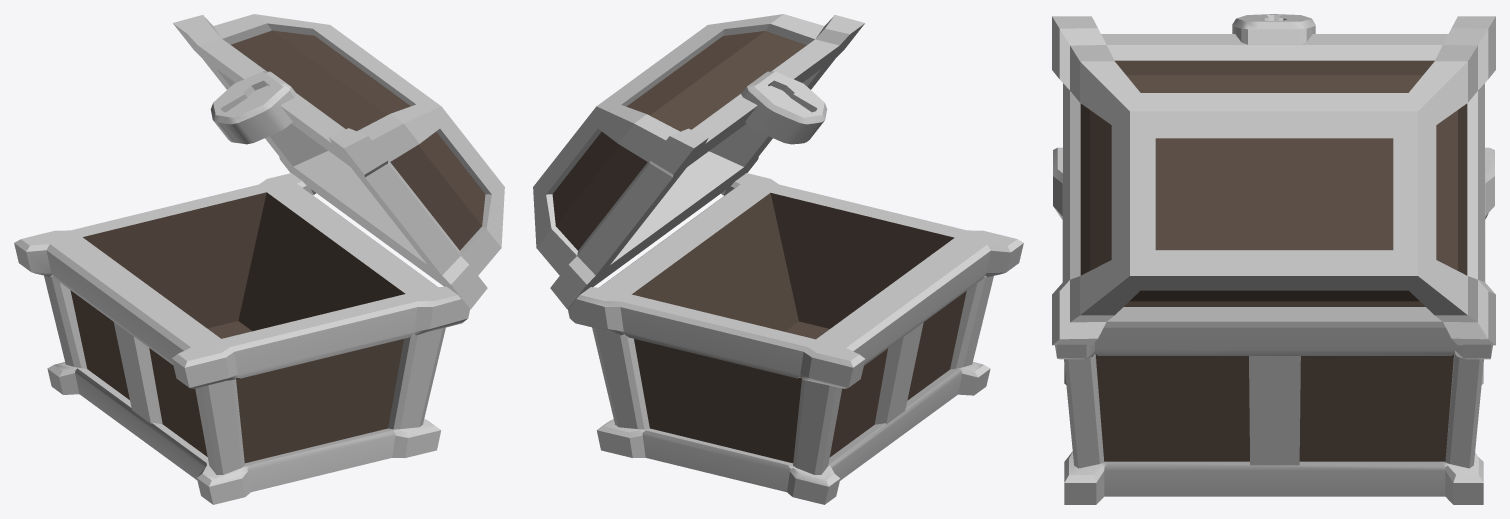
Rendered from darkOpenChest.fbx.
3 views of the same model, side by side, from view 1: azimuth 30°, elevation 25°; view 2: azimuth 150°, elevation 25°; view 3: azimuth 270°, elevation 25° (orthographic). The views are drawn at different scales.
Visible parts, largest first — view 1: Frame, Sides1, LidFrame, LidSides, Lock; view 2: Frame, Sides1, LidFrame, LidSides, Lock; view 3: LidFrame, LidSides, Frame, Sides1, Lock.
Part boxes in pixels (left/top/right/bottom): Frame: left=14, top=173, right=469, bottom=504; Sides1: left=70, top=192, right=405, bottom=463; LidFrame: left=173, top=14, right=504, bottom=309; LidSides: left=231, top=30, right=485, bottom=250; Lock: left=210, top=71, right=296, bottom=144; Frame: left=568, top=173, right=1023, bottom=504; Sides1: left=632, top=192, right=966, bottom=463; LidFrame: left=533, top=14, right=864, bottom=309; LidSides: left=552, top=31, right=806, bottom=250; Lock: left=741, top=71, right=827, bottom=144; LidFrame: left=1052, top=16, right=1495, bottom=345; LidSides: left=1080, top=60, right=1467, bottom=306; Frame: left=1053, top=147, right=1494, bottom=504; Sides1: left=1095, top=354, right=1453, bottom=461; Lock: left=1232, top=14, right=1315, bottom=44.
Size of the model in its own units: 50.45 by 45.89 by 42.77.
